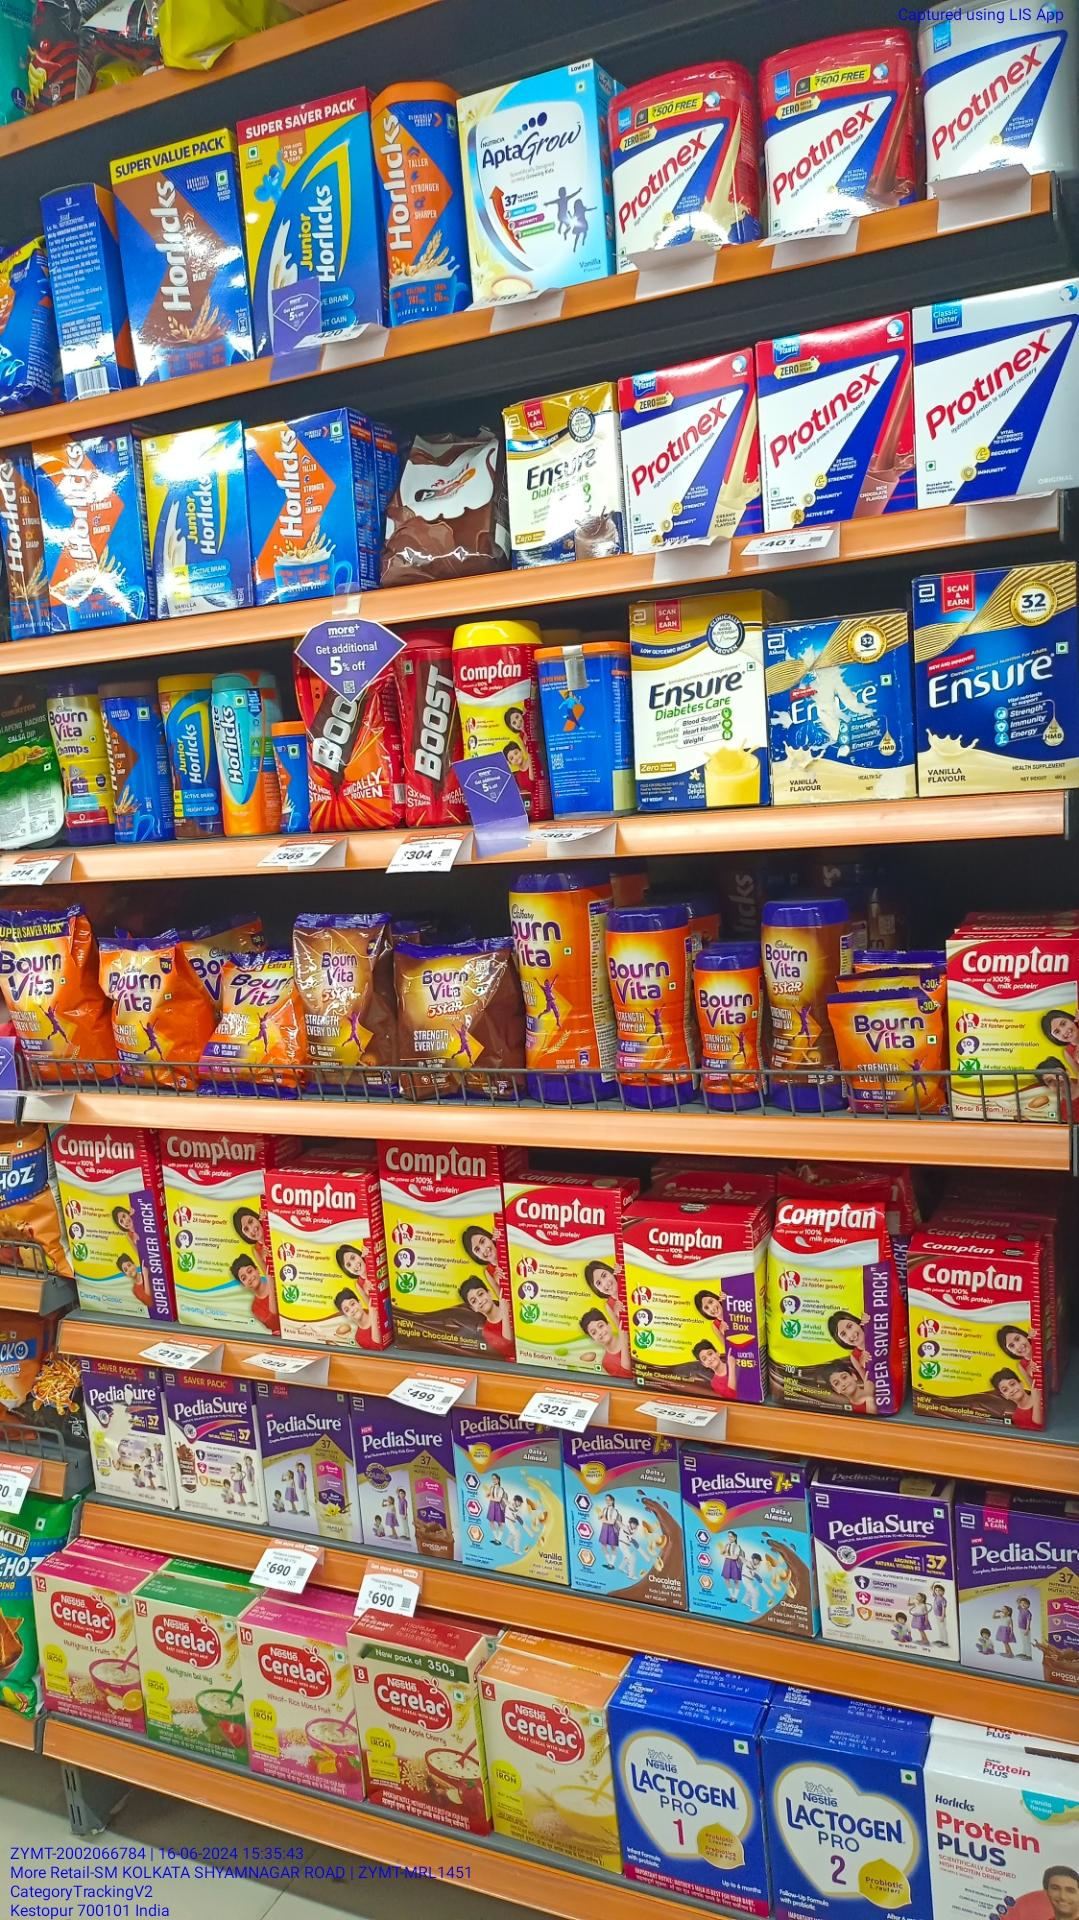BOURN_VITA_75_G_POUCH: (836, 988, 939, 1110)
BOURN_VITA_CHAMPS_500_G_JAR: (41, 680, 95, 845)
COMPLAN_CHOCOLATE_500_GMS_JAR: (452, 622, 530, 750)
COMPLAN_KESAR_BADAM_200_GMS_PACK: (948, 939, 1079, 1118)
COMPLAN_PISTA_BADAM_500_GMS_PACK: (513, 1184, 621, 1366)
COMPLAN_RC_POUCH_700_GMS_12: (772, 1179, 894, 1416)
HORLICKS_LITE_REGULAR_MALT_500_GM_JAR: (212, 669, 269, 837)
